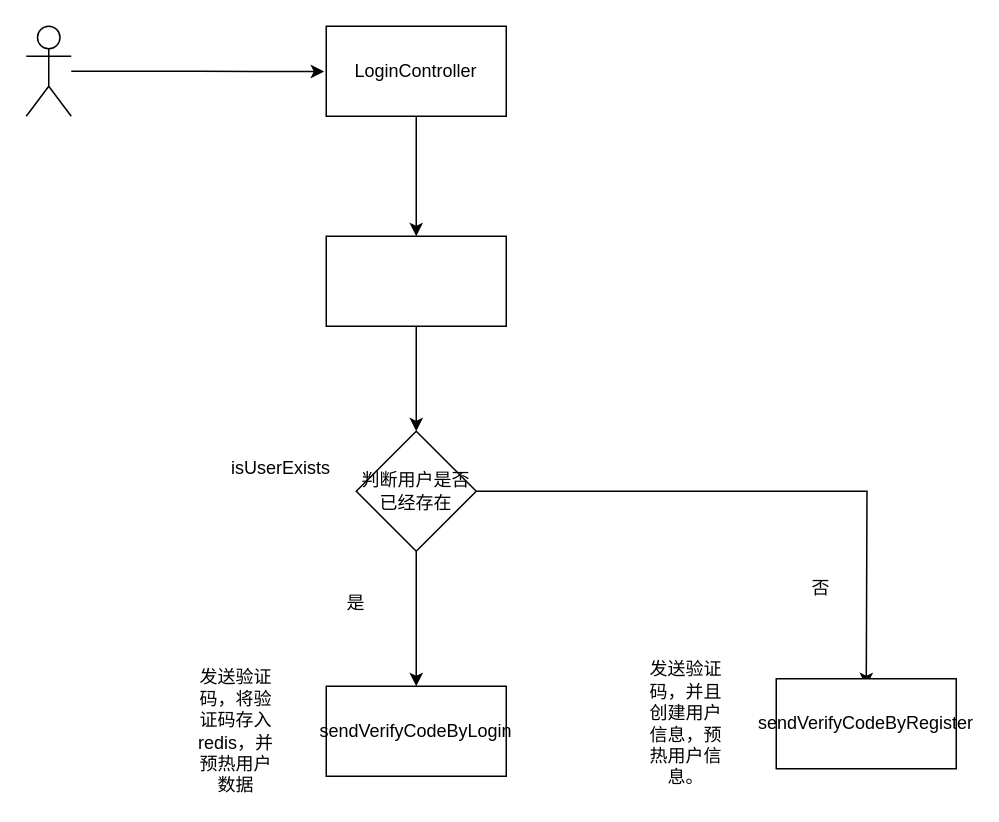
The diagram is 999 pixels wide and 822 high, and some of its shapes have lost their labels. Each missing label, with the box of its shape:
Actor: (25, 25, 71, 116)
verifyCode: (325, 235, 506, 326)
